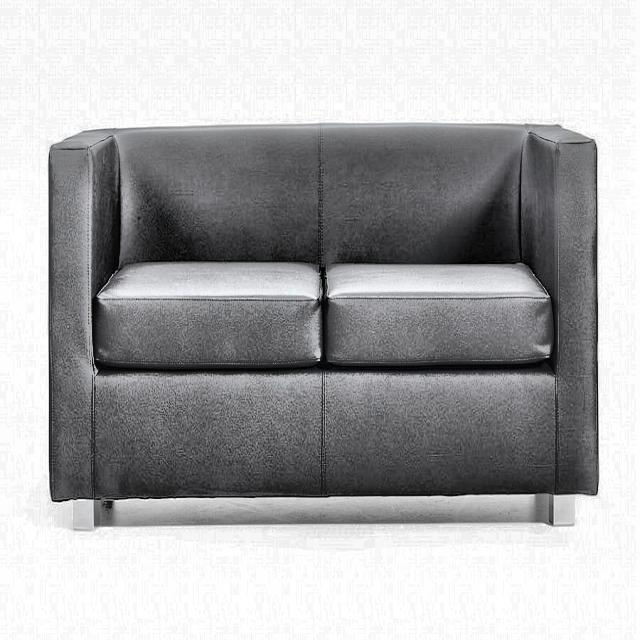sofa: (47, 120, 599, 530)
